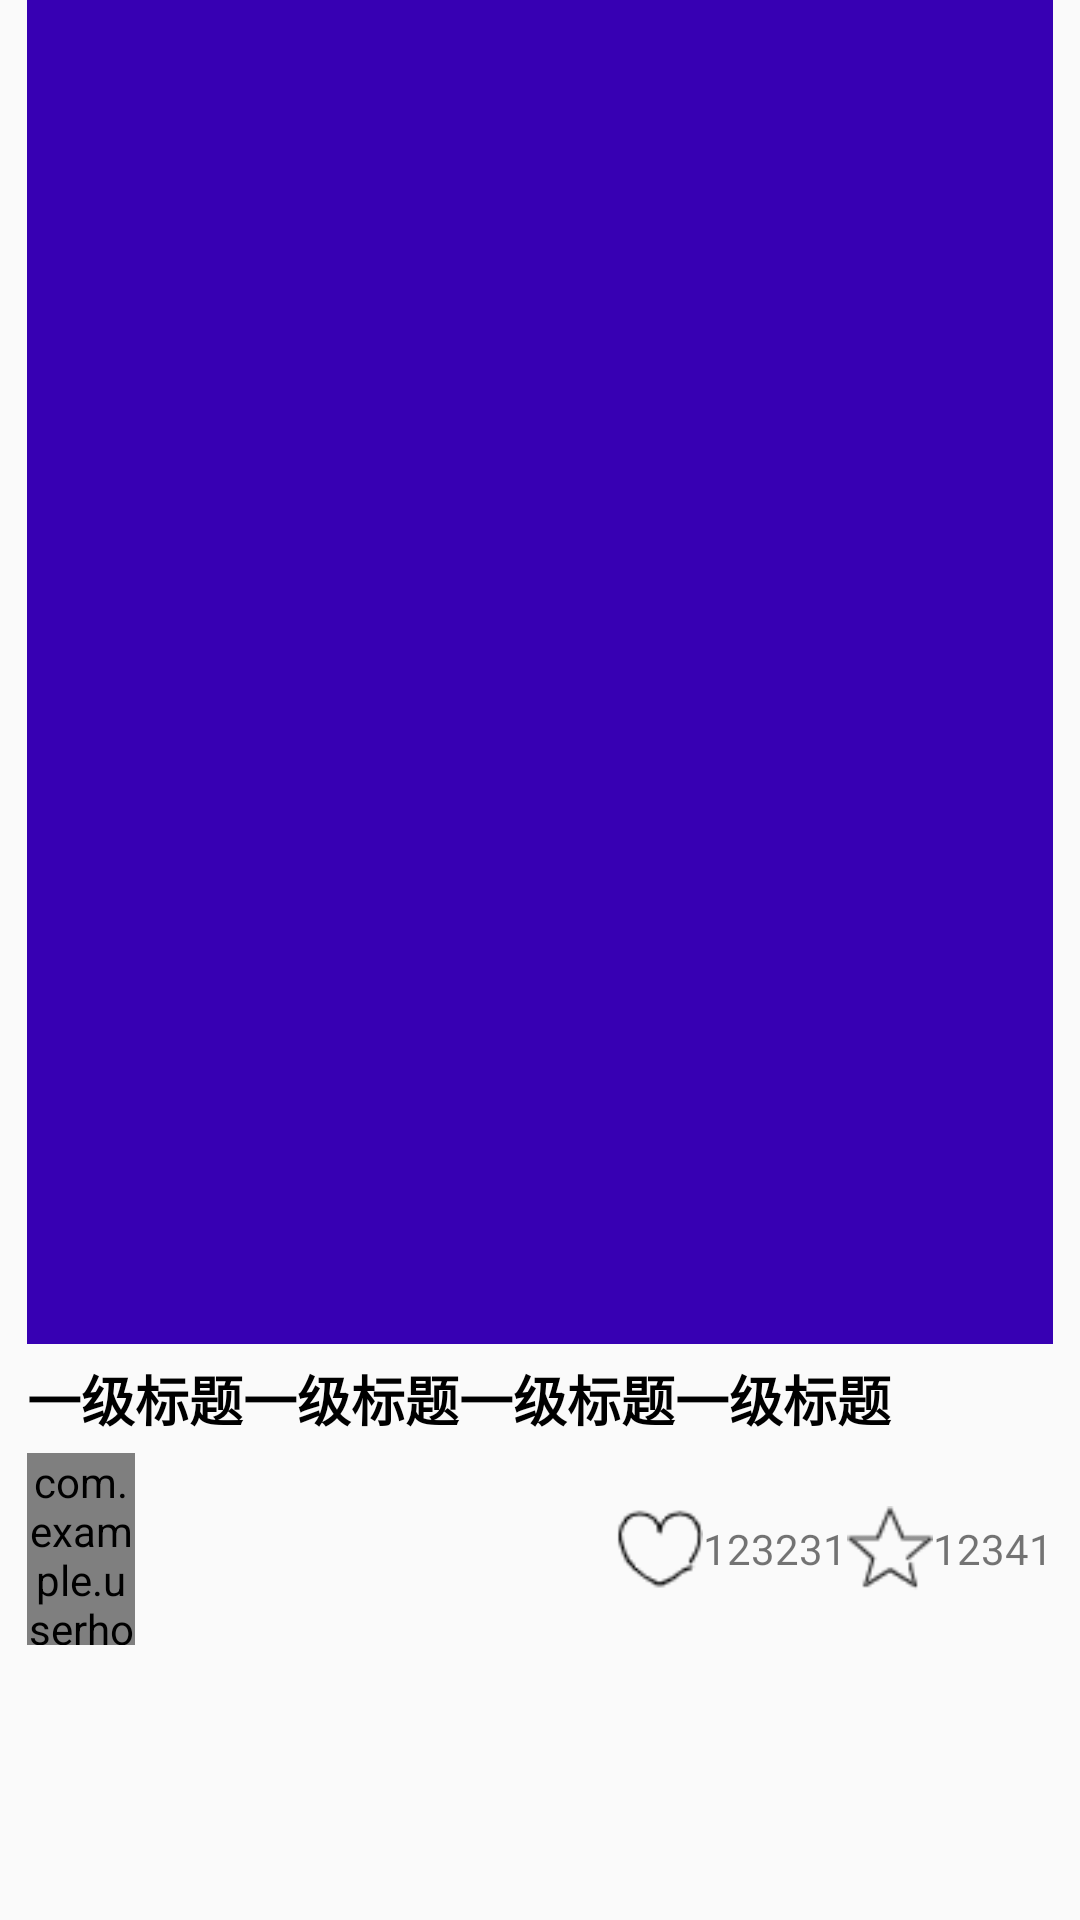

Icon click points for this 1080w x 1920h phone screenshot, format (x,y):
like: (660,1549)
star: (890,1547)
